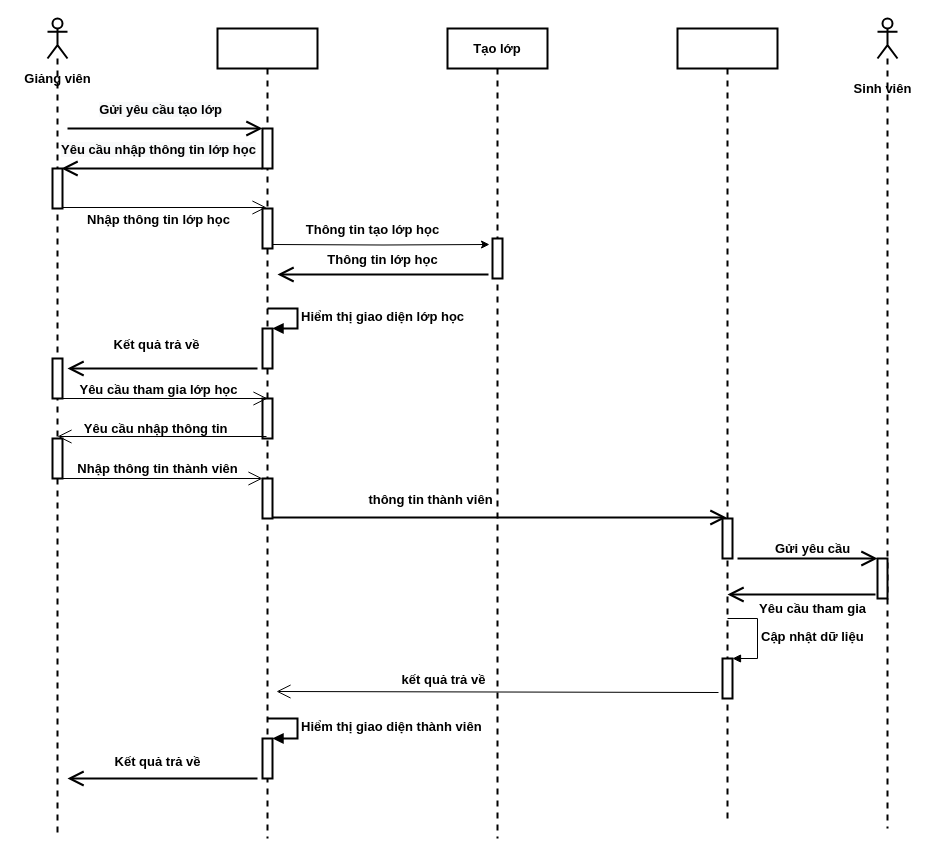
The diagram is 934 pixels wide and 856 high, and some of its shapes have lost their labels. Here are the shapes that lost their labels. From the top down, the box of each, then its label:
(216, 27, 318, 839): Hệ thống
(676, 27, 778, 819): Tham gia lớp
